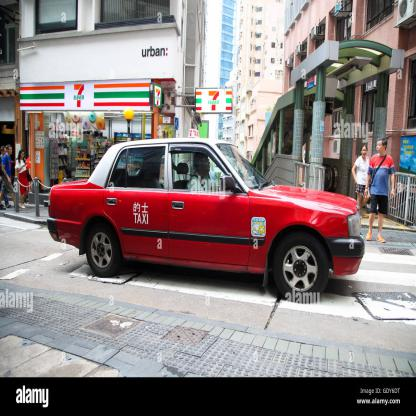taxi: (45, 126, 370, 319)
